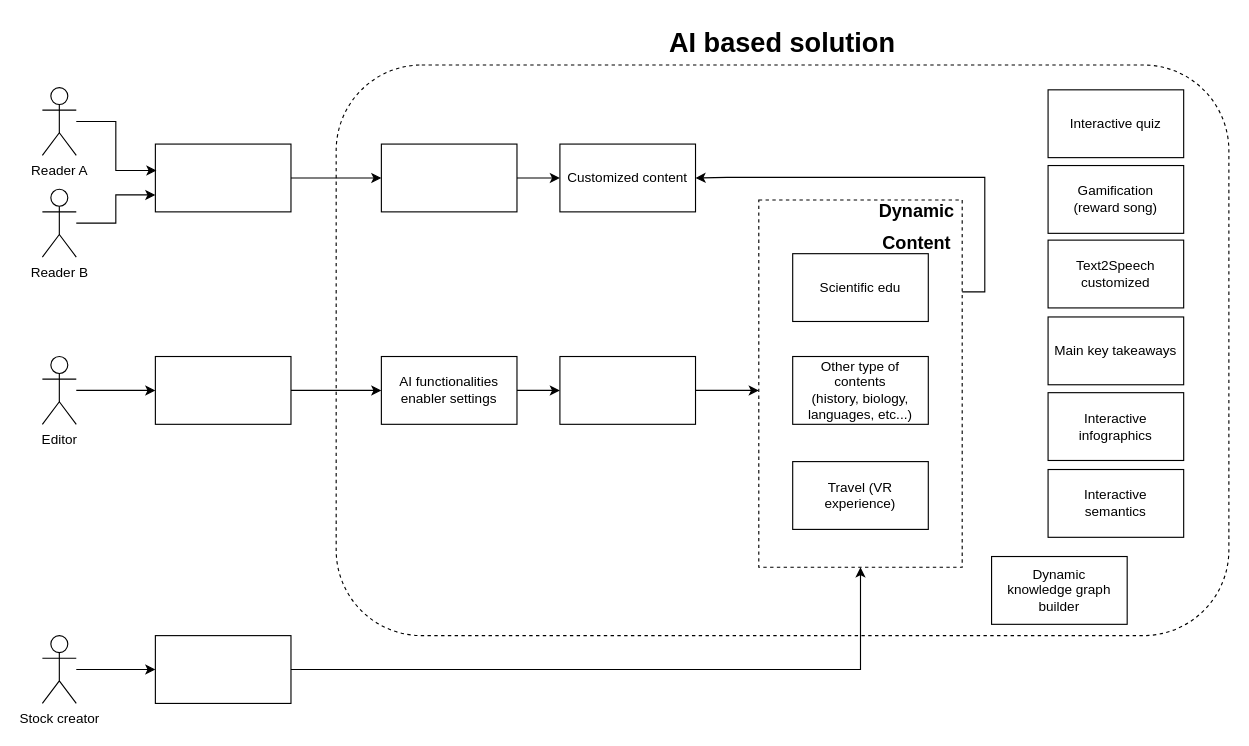
The diagram is 1249 pixels wide and 746 high, and some of its shapes have lost their labels. Here are the shapes that lost their labels. From the top down, the centre of each, then its label:
pixel 222 177: Profile + personal interests
pixel 448 177: AI functionalities filter
pixel 222 389: Content
pixel 627 389: Content classifier + AI content maker assistant
pixel 222 668: Stock video contents
